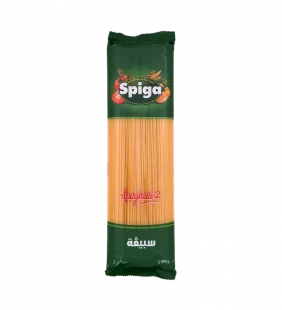SPIGA: (100, 21, 186, 290)
